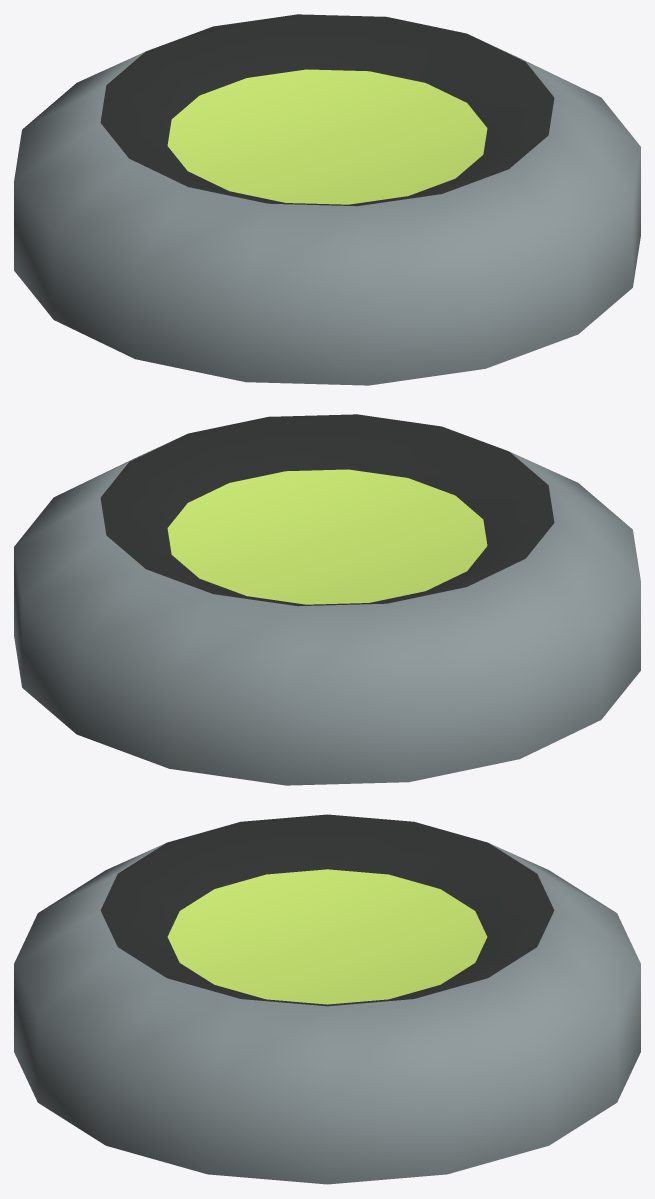
Rendered from ArenaBallStartArea.fbx.
The picture shows the model from 3 angles, top to bottom: view 1: azimuth 30°, elevation 25°; view 2: azimuth 150°, elevation 25°; view 3: azimuth 270°, elevation 25°; orthographic projection.
Parts seen in each view (by area): view 1: Cylinder; view 2: Cylinder; view 3: Cylinder.
Boxes of the visible parts, x1=… form: Cylinder: x1=14, y1=14, x2=640, y2=385; Cylinder: x1=14, y1=414, x2=640, y2=785; Cylinder: x1=14, y1=814, x2=640, y2=1184.
Size of the model in its own units: 200 by 49.84 by 200.
